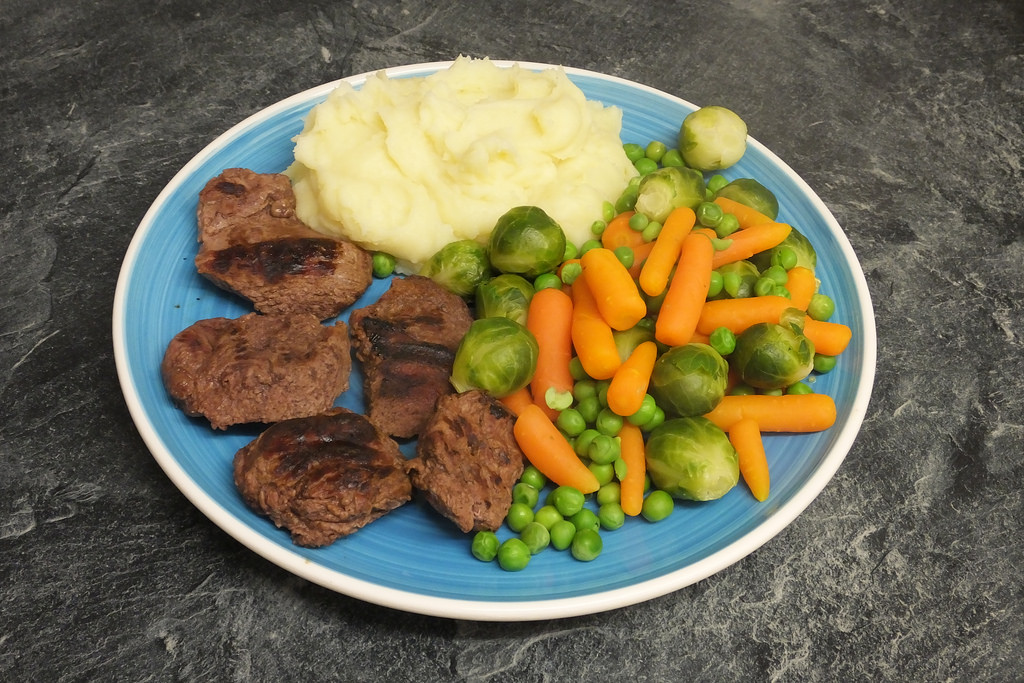boiled peas: (505, 502, 606, 581)
boiled potatoes: (342, 94, 615, 224)
